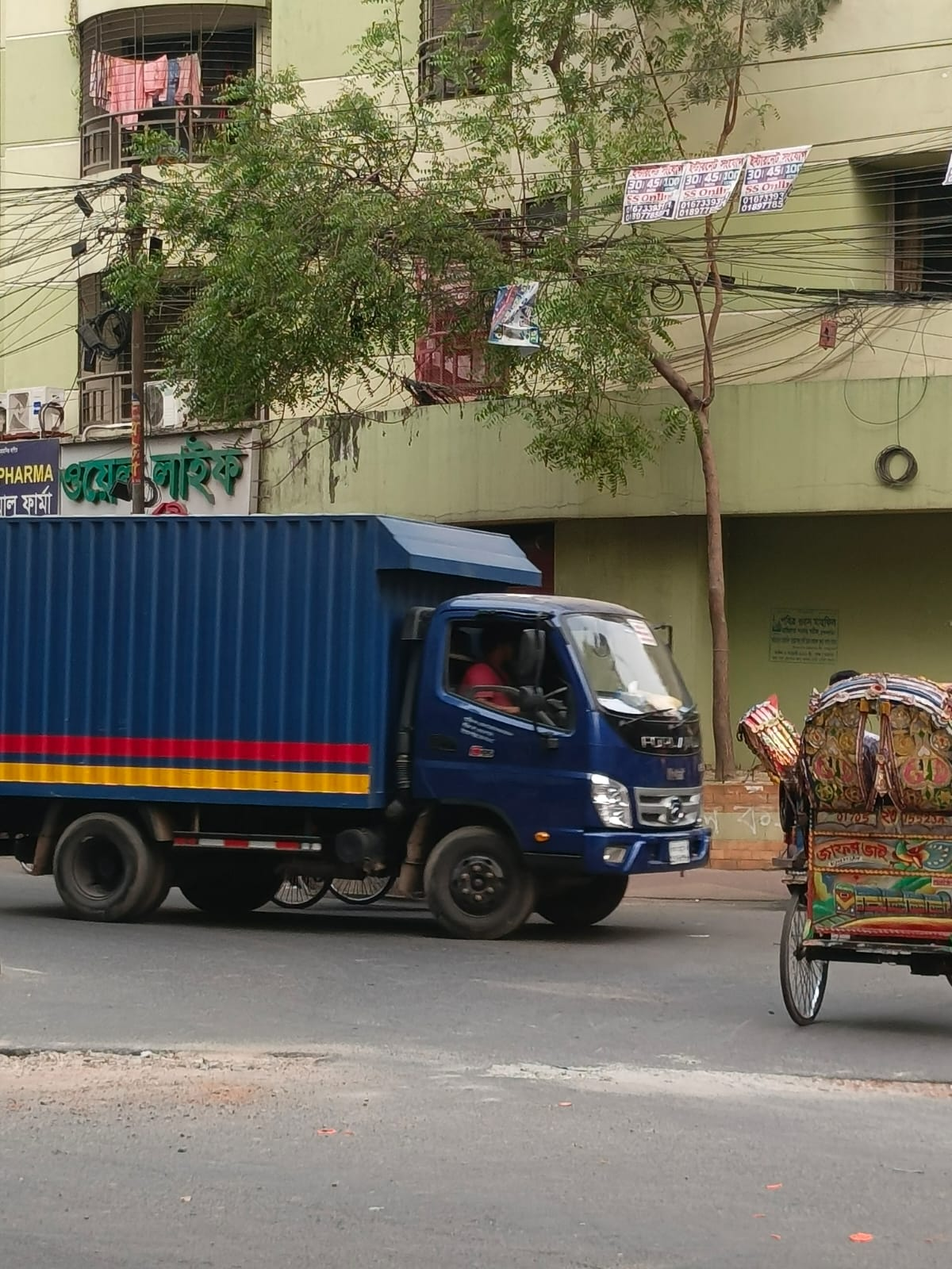Truck: (0, 471, 734, 1014)
auto-ricksaw: (719, 540, 952, 1191)
